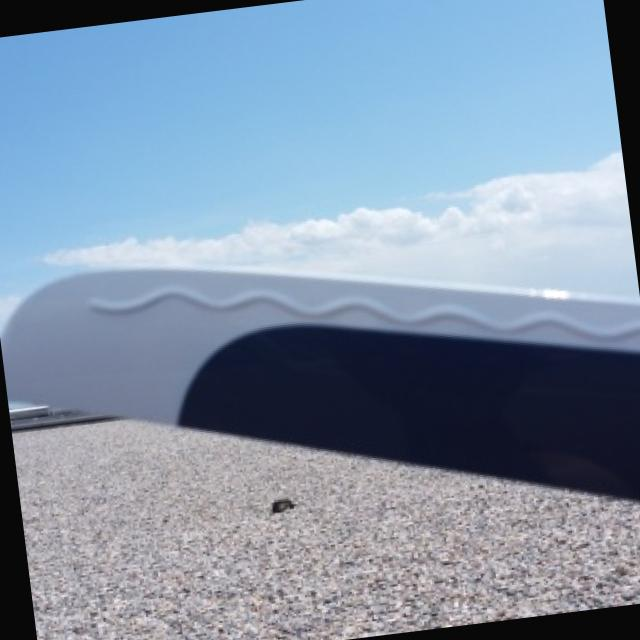healthy: (2, 266, 640, 497)
